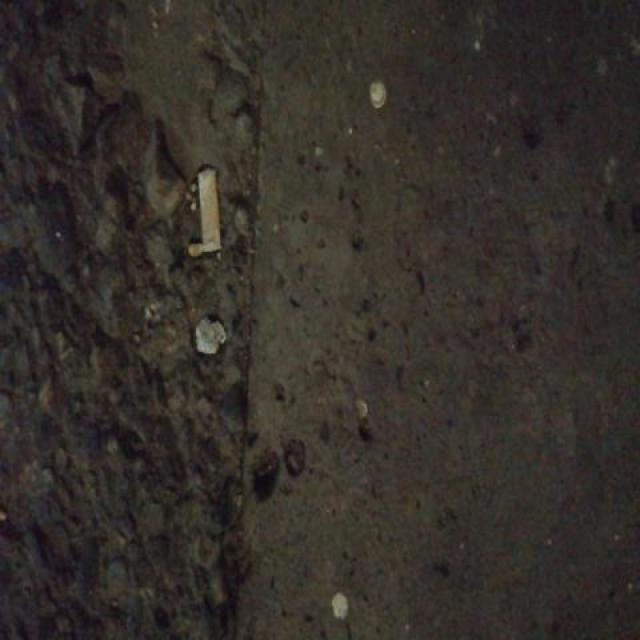non-organic waste: (193, 162, 226, 259)
